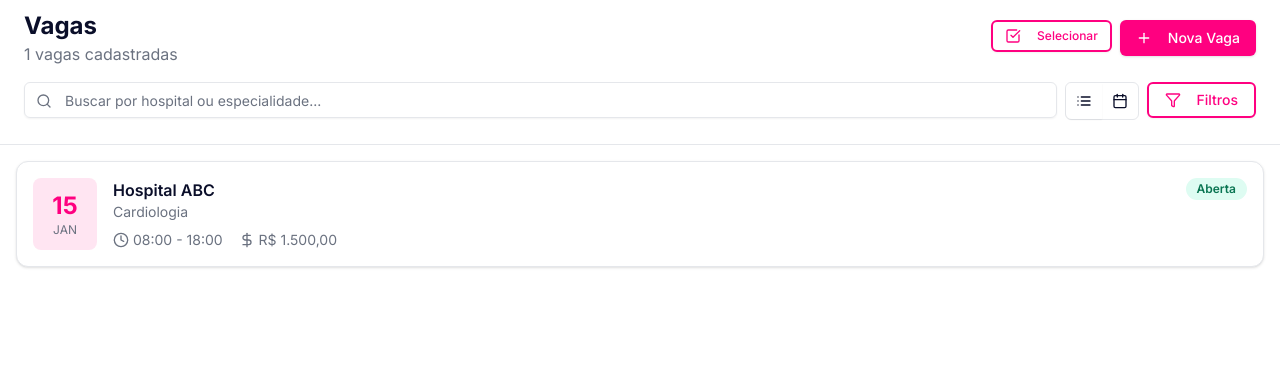
Test: VagasPage › selection mode (Sprint 58) › deve mostrar floating bar ao selecionar vagas
Entrar no modo seleção
Click the button "Selecionar".
click(1052, 36)  # box [991,20,1112,52]
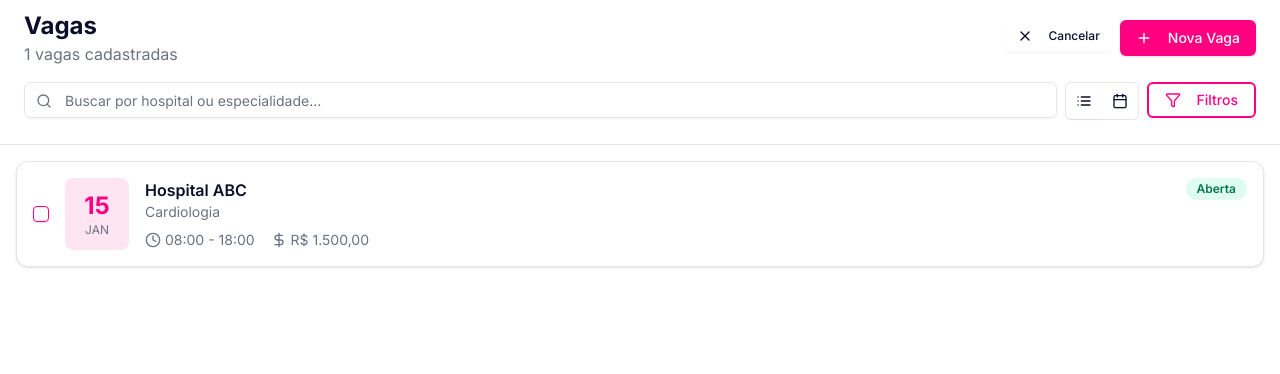
Clicar no checkbox
Click the checkbox.
click(41, 214)  # box [33,206,49,222]
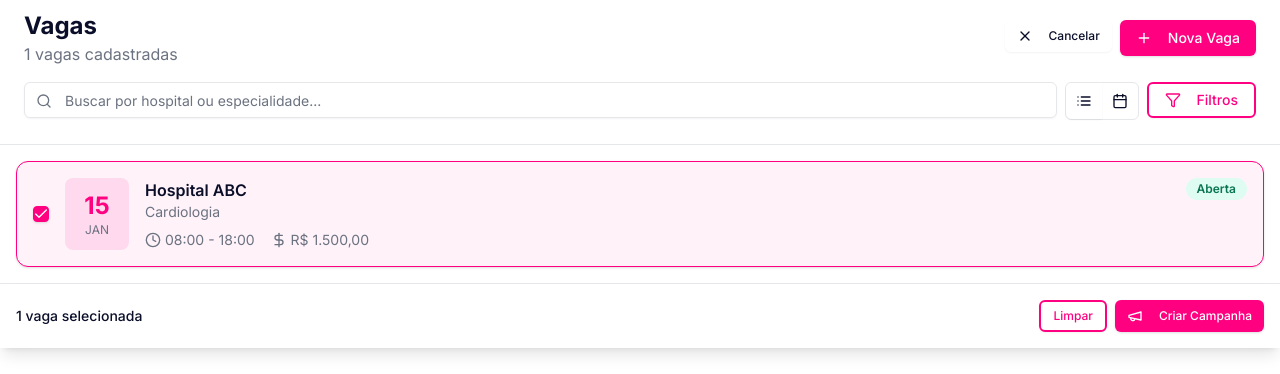
expect the text "1 vaga selecionada" is shown: met, box [16,306,142,326]
expect the button "Criar Campanha" is shown: met, box [1115,300,1264,332]
